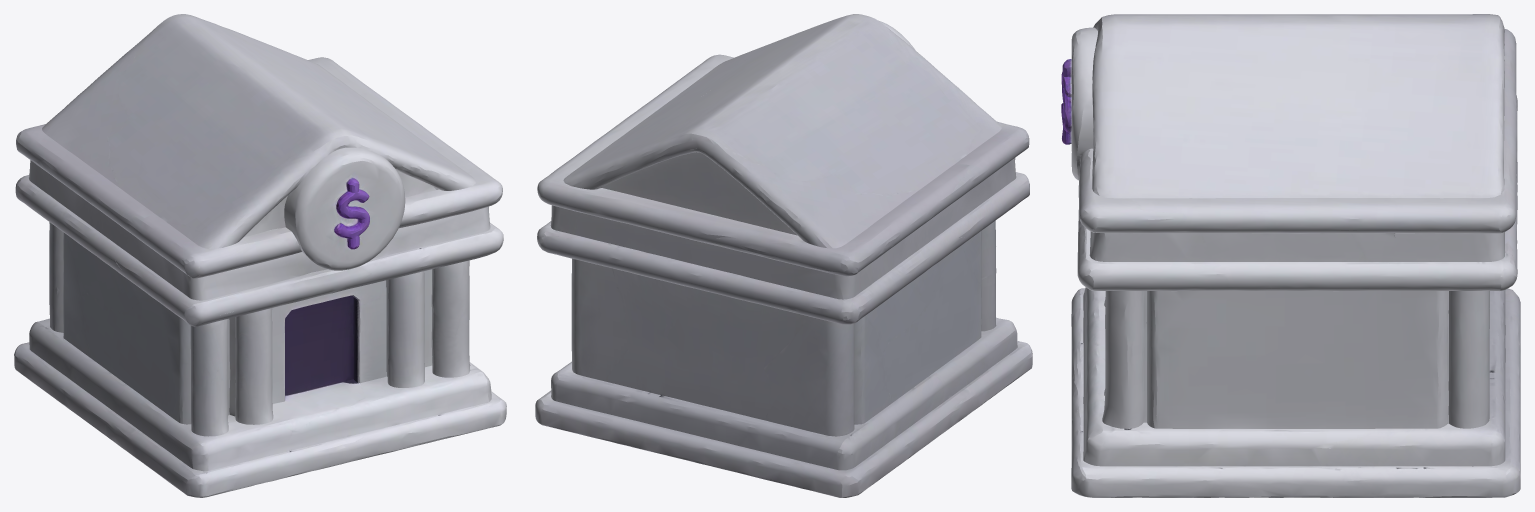
File: bank.glb
3 views of the same model, side by side, from view 1: azimuth 30°, elevation 25°; view 2: azimuth 150°, elevation 25°; view 3: azimuth 270°, elevation 25° (orthographic). The views are drawn at different scales.
Parts seen in each view (by area): view 1: model; view 2: model; view 3: model.
Boxes of the visible parts, bbox=[...] form: model: bbox=[14, 14, 506, 497]; model: bbox=[535, 14, 1032, 497]; model: bbox=[1061, 14, 1520, 497].
Size of the model in its own units: 0.9731 by 0.9279 by 1.
Materials: 1 (1 with a texture image).
